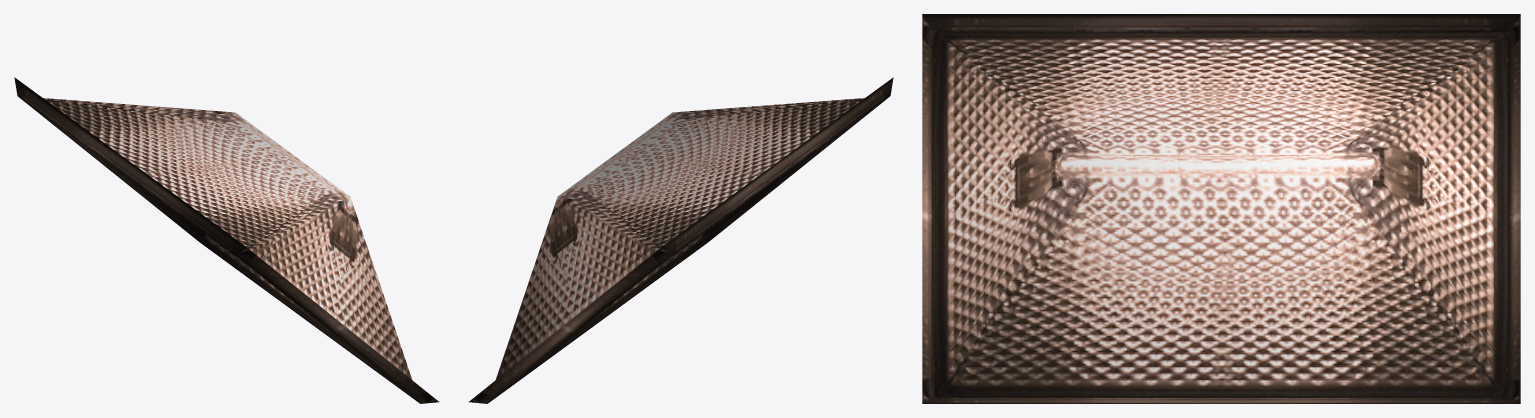
Rendered from LIT_SpotSmall.FBX.
The picture shows the model from 3 angles, left to right: view 1: azimuth 30°, elevation 25°; view 2: azimuth 150°, elevation 25°; view 3: azimuth 270°, elevation 25°; orthographic projection. The views are drawn at different scales.
Parts seen in each view (by area): view 1: LIT_SpotSmall; view 2: LIT_SpotSmall; view 3: LIT_SpotSmall.
Part boxes in pixels (x1,y1,x2,y2): LIT_SpotSmall: (14, 77, 438, 403); LIT_SpotSmall: (469, 77, 893, 403); LIT_SpotSmall: (922, 14, 1520, 403).
Bounding box in the file's own units: 27.34 × 27.34 × 41.2.
